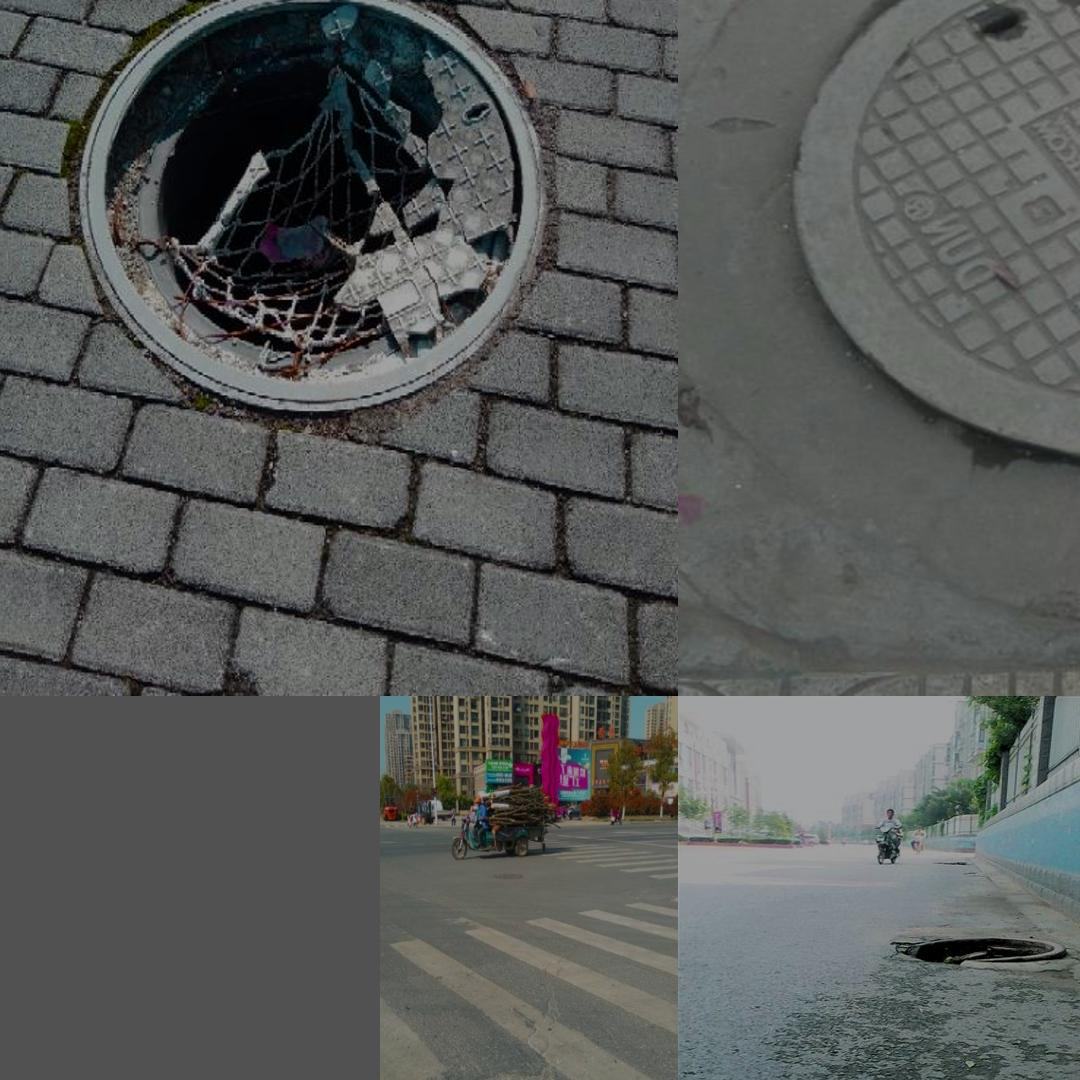broke: (39, 0, 572, 445), (725, 0, 1080, 580), (861, 919, 1080, 987)
